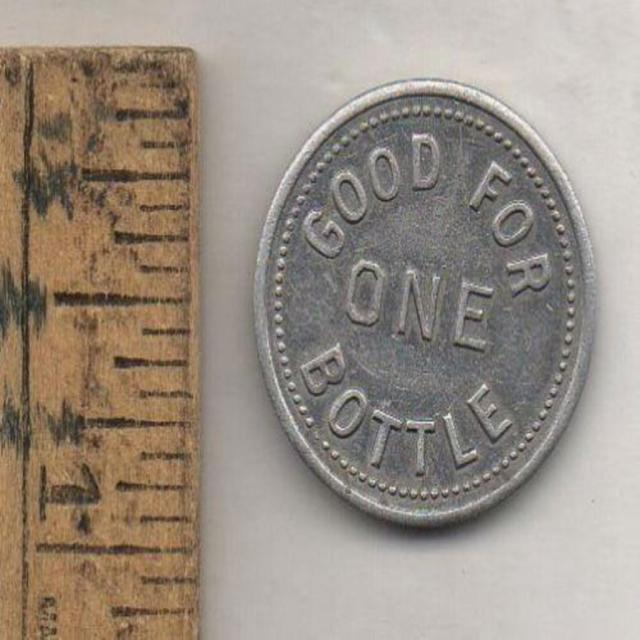Coin: (259, 79, 600, 531)
